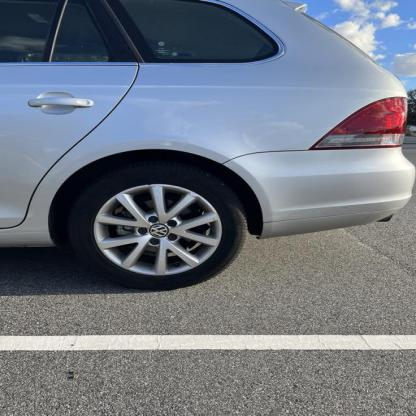Tire: (66, 163, 250, 292)
